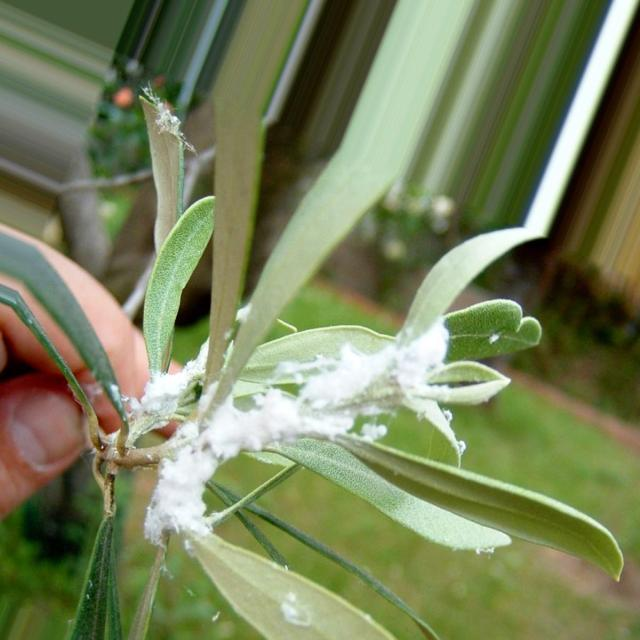Psyllid: (143, 395, 262, 545), (259, 346, 394, 444), (390, 323, 466, 466), (126, 342, 207, 457), (219, 302, 251, 373), (278, 589, 311, 628), (351, 422, 388, 442)
